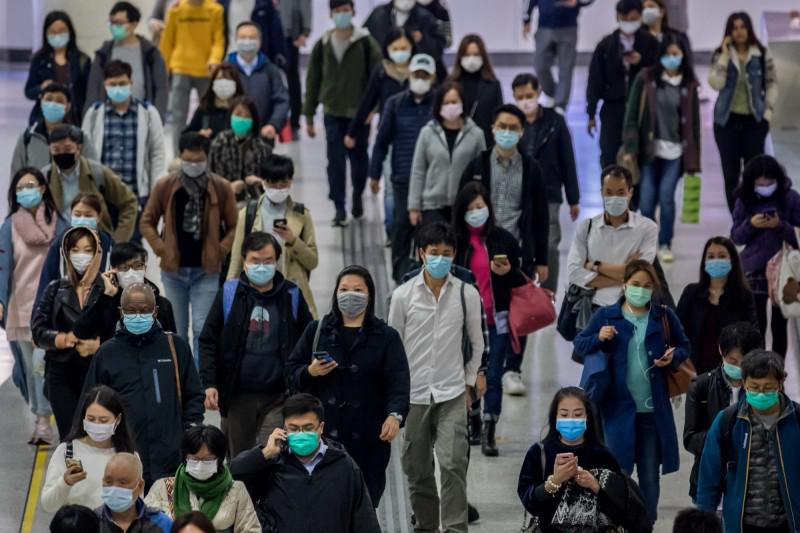mask: (284, 418, 321, 457), (102, 474, 138, 512), (555, 404, 590, 443), (121, 302, 156, 336), (82, 410, 118, 442), (184, 450, 220, 481), (339, 283, 369, 319), (747, 380, 779, 410), (601, 185, 630, 218), (426, 247, 454, 281), (623, 277, 653, 308), (246, 254, 278, 283), (493, 119, 521, 150), (704, 248, 732, 279), (49, 142, 78, 171), (118, 260, 145, 291), (465, 201, 492, 231), (15, 179, 42, 208), (70, 243, 94, 275), (41, 94, 66, 122), (722, 354, 746, 383), (70, 209, 98, 233), (266, 179, 291, 205), (213, 73, 237, 100), (238, 30, 259, 60), (105, 78, 130, 103), (438, 96, 463, 121), (180, 153, 206, 177), (515, 90, 539, 114), (231, 111, 254, 135), (409, 72, 432, 96), (460, 48, 483, 72), (332, 5, 354, 29), (48, 24, 69, 49), (618, 14, 641, 35), (754, 177, 777, 198), (642, 2, 660, 26), (109, 18, 129, 39), (661, 50, 682, 70), (390, 44, 412, 62)
none: (733, 22, 750, 46)
